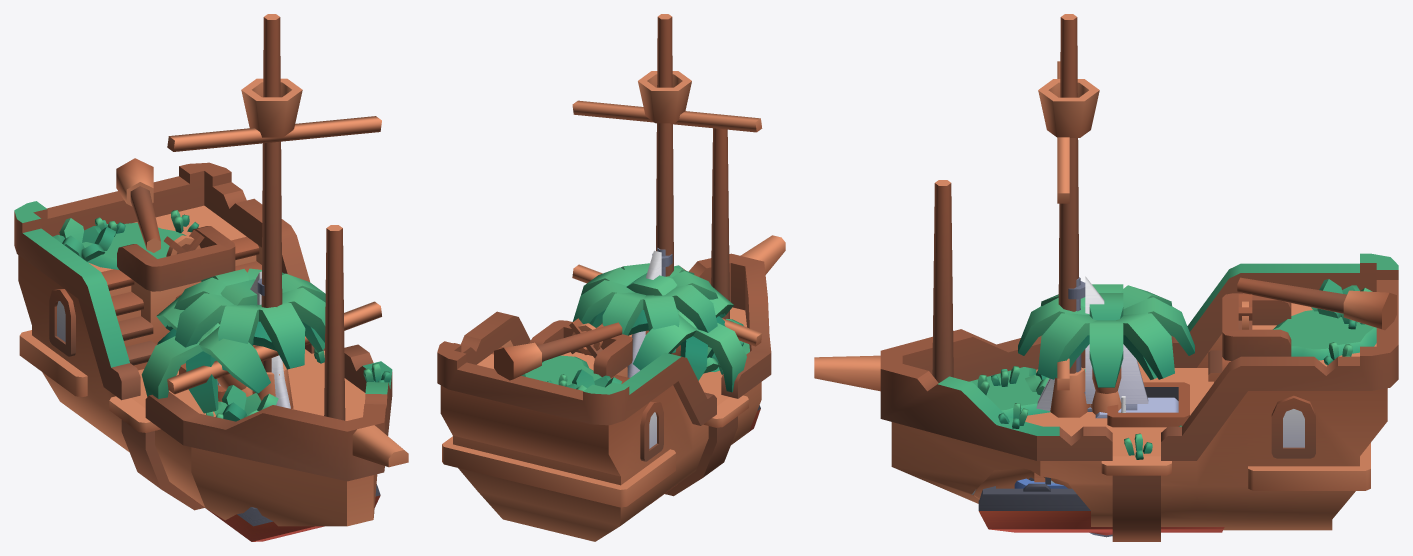
The model's file is world.glb.
3 renders of one model, left to right at view 1: azimuth 30°, elevation 25°; view 2: azimuth 150°, elevation 25°; view 3: azimuth 270°, elevation 25°, orthographic. The views are drawn at different scales.
Visible parts, largest first — view 1: ship-wreck, Group (×4), palm-bend, sail-a, palm-detailed-straight, palm-straight, boat-house-a, palm-detailed-bend, sail; view 2: ship-wreck, Group (×3), palm-bend, palm-detailed-straight, sail-a, palm-straight, palm-detailed-bend, sail; view 3: ship-wreck, Group (×3), boat-house-a, palm-detailed-straight, palm-straight, sail, sail-a, palm-bend.
Part boxes in pixels (x1,y1,x2,y2): ship-wreck: (14, 14, 408, 526); Group (×4): (53, 158, 278, 421); palm-bend: (141, 279, 270, 398); sail-a: (167, 116, 381, 394); palm-detailed-straight: (175, 269, 325, 392); palm-straight: (166, 268, 325, 370); boat-house-a: (190, 484, 380, 541); palm-detailed-bend: (157, 321, 276, 413); sail: (250, 271, 290, 408); ship-wreck: (437, 14, 785, 541); Group (×3): (494, 322, 622, 390); palm-bend: (626, 273, 746, 392); palm-detailed-straight: (581, 267, 717, 335); sail-a: (572, 100, 762, 346); palm-straight: (572, 263, 725, 353); palm-detailed-bend: (628, 310, 725, 380); sail: (627, 248, 672, 377); ship-wreck: (814, 14, 1398, 541); Group (×3): (969, 277, 1396, 418); boat-house-a: (978, 397, 1224, 532); palm-detailed-straight: (1018, 284, 1194, 412); palm-straight: (1038, 285, 1174, 414); sail: (1036, 276, 1148, 411); sail-a: (1057, 61, 1069, 390); palm-bend: (1033, 293, 1179, 320).
Bounding box in the file's own units: 4.8 × 10.26 × 10.6.
4 materials, 4 textured.
